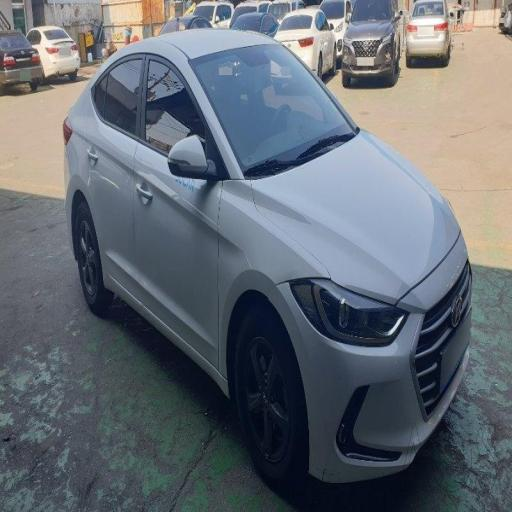scratch: (130, 108, 319, 316)
